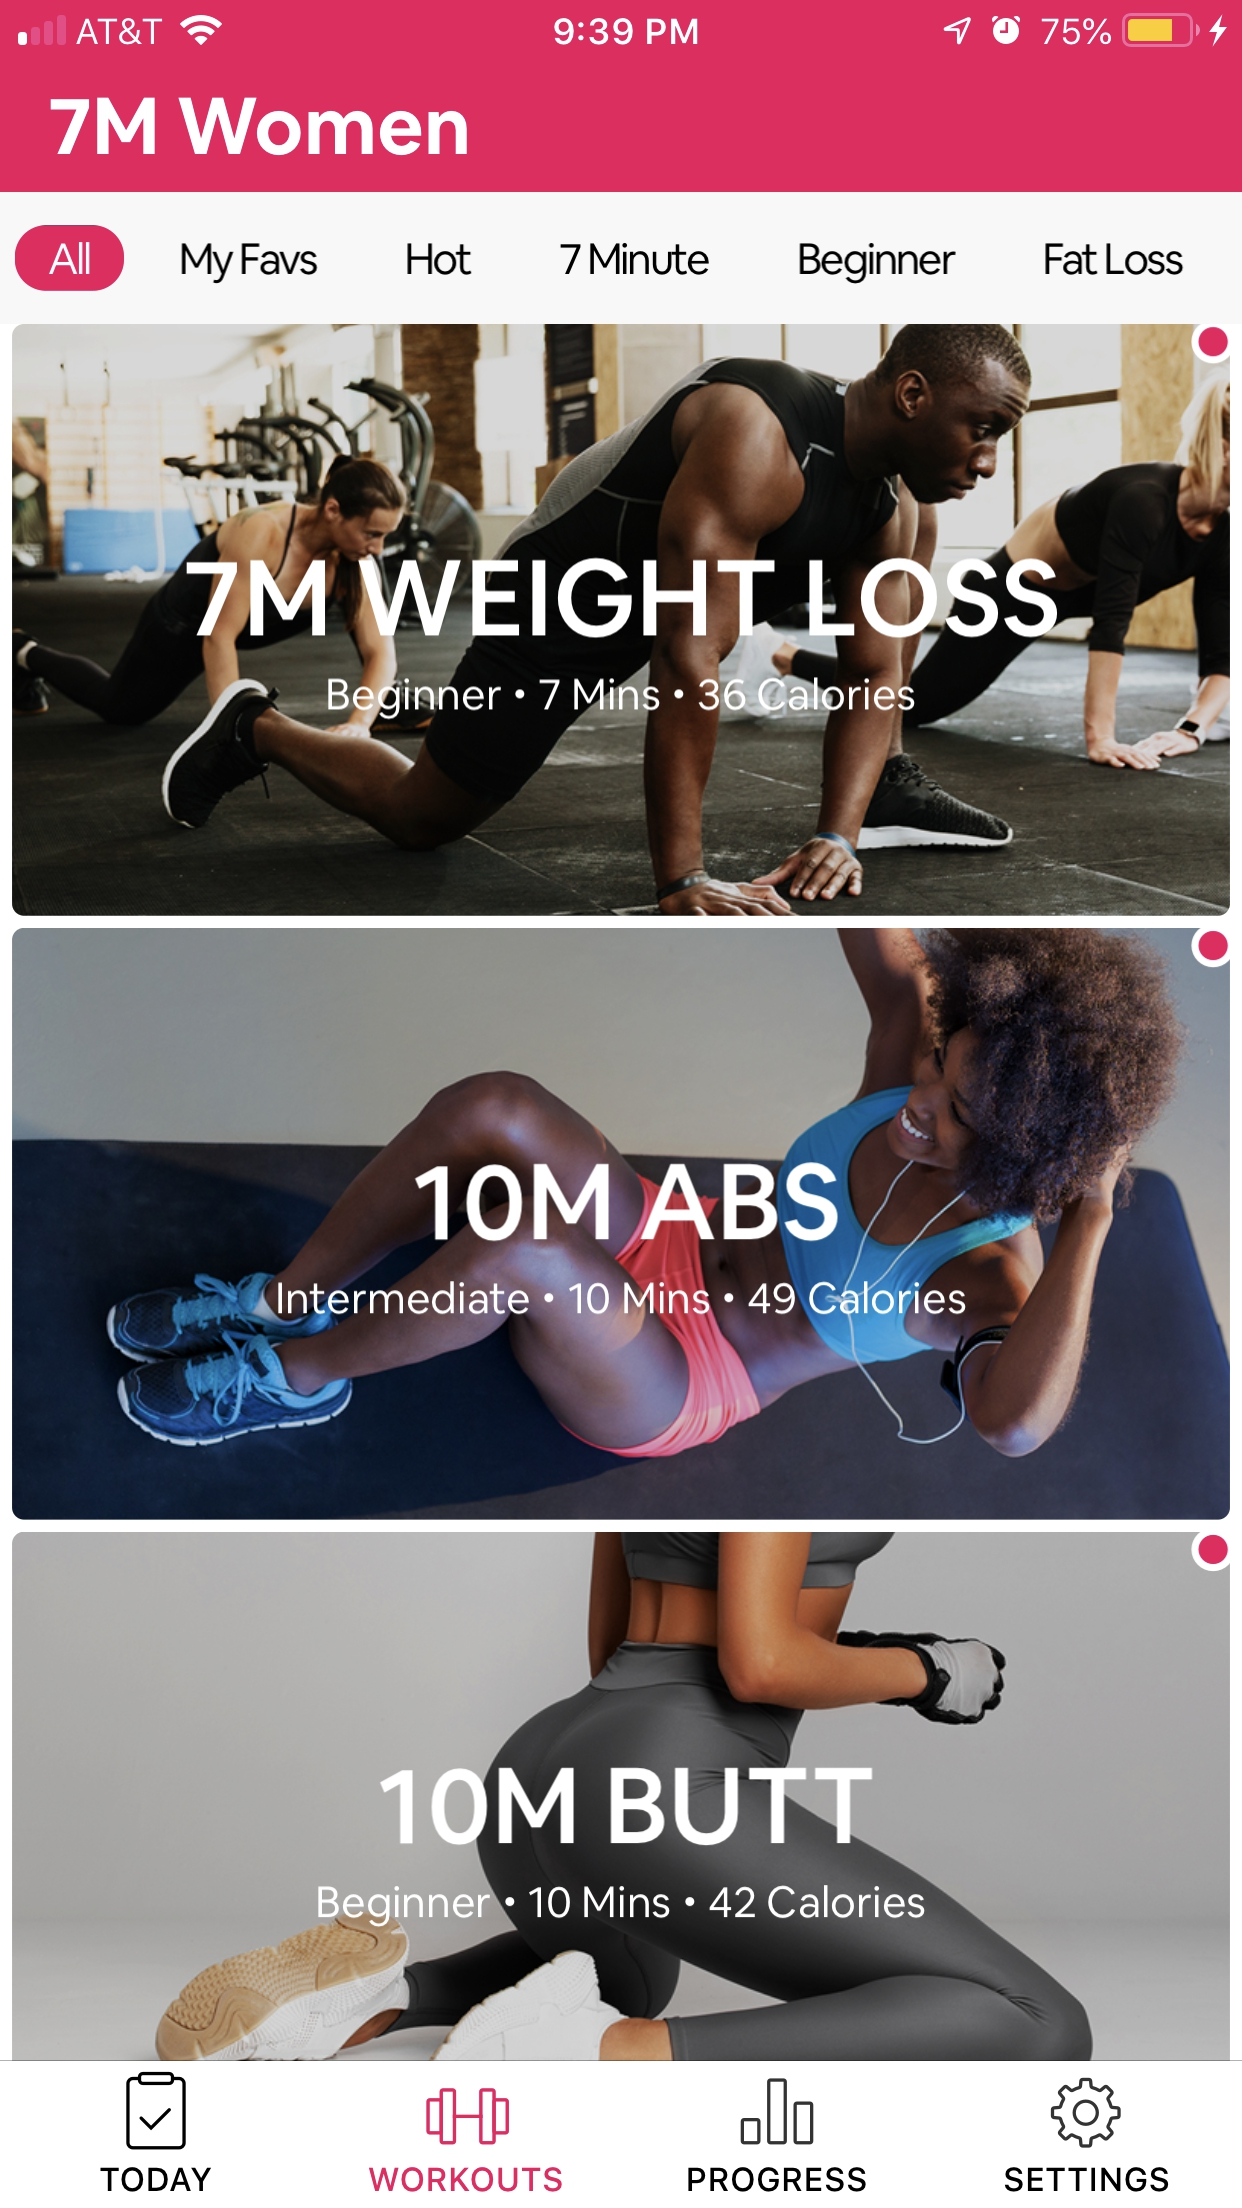Icon: (1049, 2078, 1122, 2149), (740, 2078, 814, 2146), (126, 2072, 188, 2150)
Image: (14, 928, 1231, 1521), (14, 325, 1231, 917), (12, 1532, 1230, 2059), (426, 2087, 510, 2146)
Text: (187, 558, 1057, 638), (379, 1767, 873, 1846), (416, 1162, 840, 1244), (318, 1885, 925, 1927), (328, 678, 914, 720), (52, 99, 469, 156), (278, 1281, 966, 1316), (799, 243, 957, 285), (182, 243, 318, 285), (369, 2166, 563, 2193), (560, 243, 710, 278), (688, 2166, 867, 2193), (1043, 243, 1183, 278), (1004, 2167, 1169, 2193), (100, 2166, 212, 2191), (406, 243, 473, 278)
TextButton: (15, 226, 126, 293)
UpperTaskBar: (2, 2, 1242, 49)
